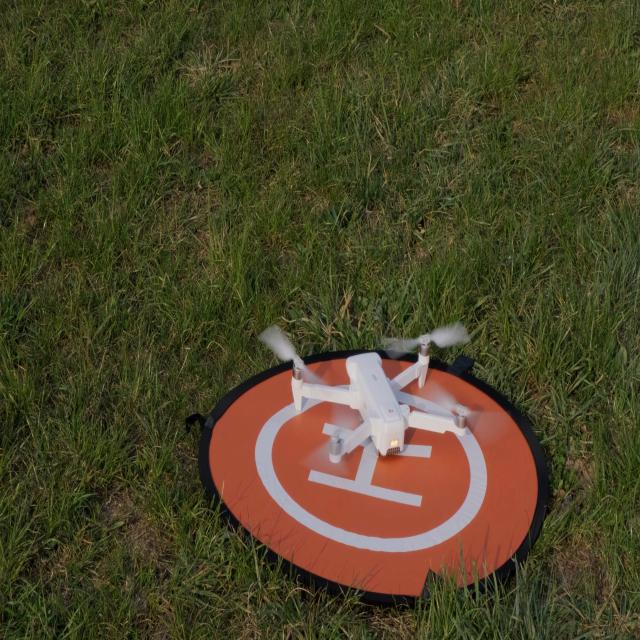drone: (257, 320, 473, 464)
